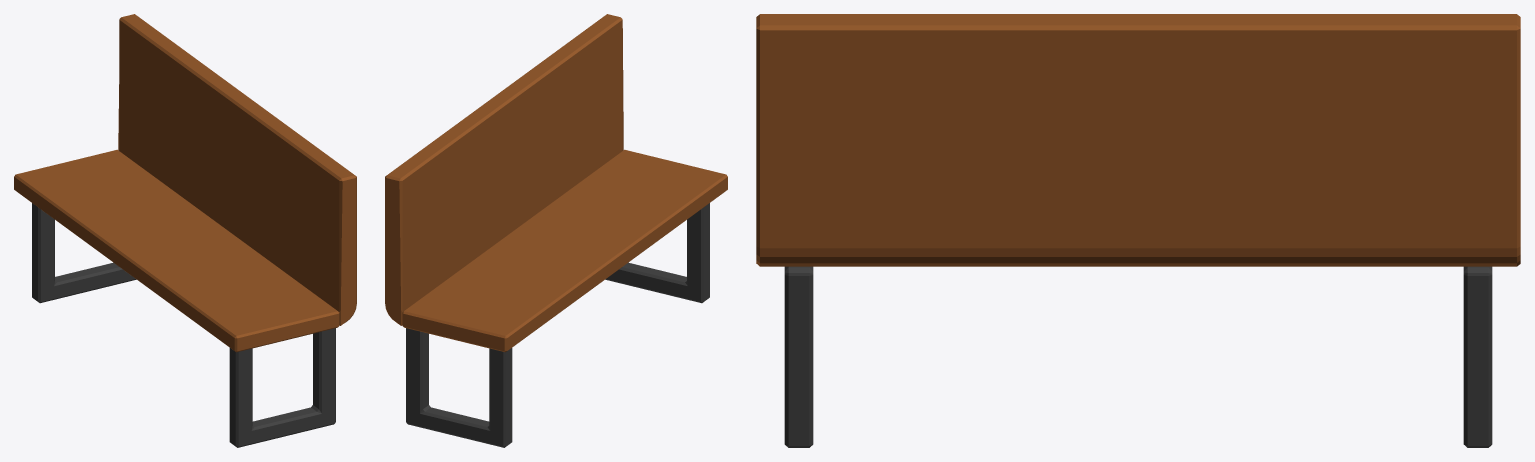
The model's file is bank.fbx.
The picture shows the model from 3 angles, left to right: view 1: azimuth 30°, elevation 25°; view 2: azimuth 150°, elevation 25°; view 3: azimuth 270°, elevation 25°; orthographic projection. The views are drawn at different scales.
Parts seen in each view (by area): view 1: Cube.020, Cube.017; view 2: Cube.020, Cube.017; view 3: Cube.020, Cube.017.
Boxes of the visible parts, x1=… form: Cube.020: x1=14, y1=14, x2=356, y2=352; Cube.017: x1=32, y1=203, x2=335, y2=447; Cube.020: x1=385, y1=14, x2=727, y2=352; Cube.017: x1=406, y1=203, x2=709, y2=447; Cube.020: x1=756, y1=14, x2=1520, y2=266; Cube.017: x1=784, y1=266, x2=1492, y2=447.
Bounding box in the file's own units: 145 × 285 × 456.
